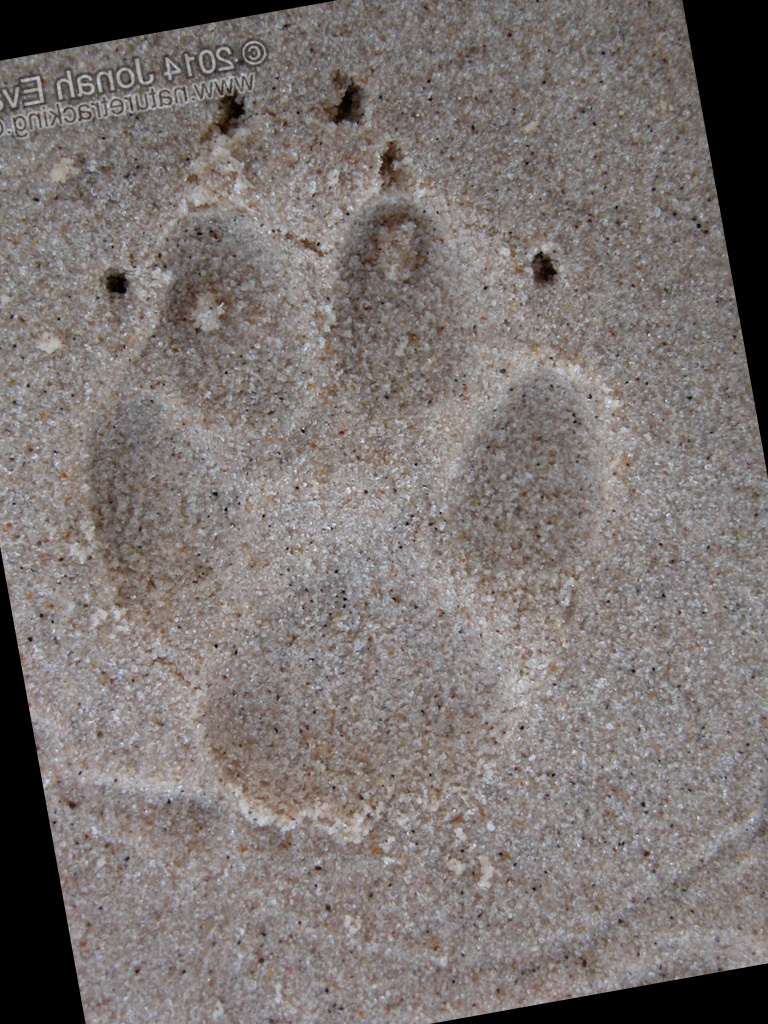coyote: (20, 106, 690, 878)
